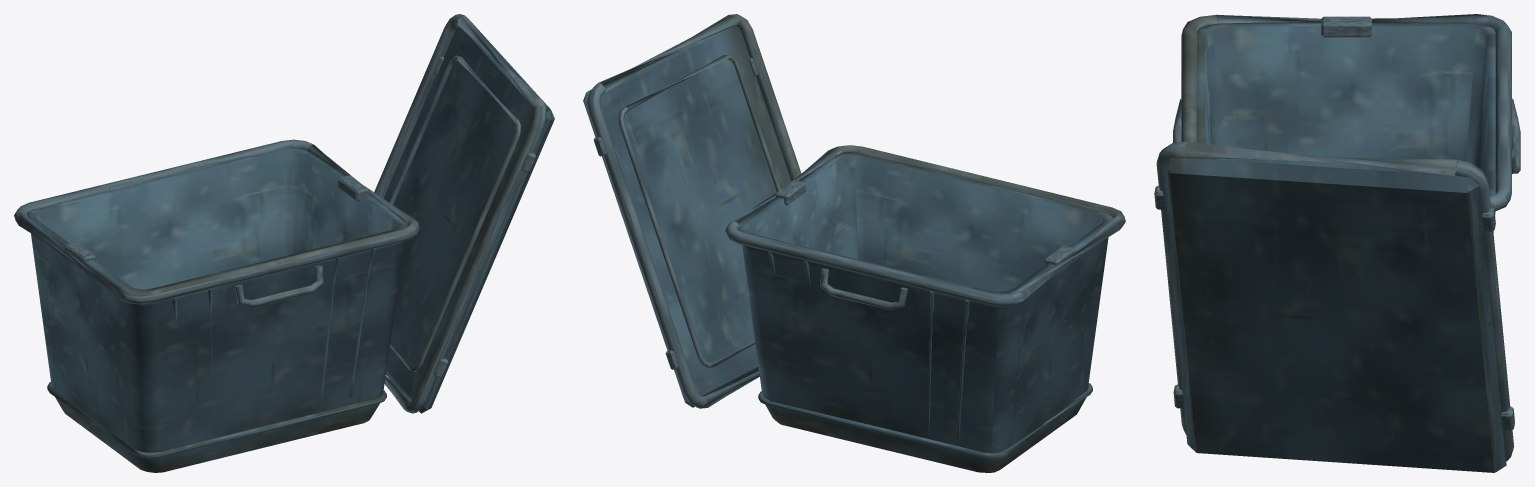
Rendered from nb_tote.glb.
3 renders of one model, left to right at view 1: azimuth 30°, elevation 25°; view 2: azimuth 150°, elevation 25°; view 3: azimuth 270°, elevation 25°, orthographic. The views are drawn at different scales.
Parts seen in each view (by area): view 1: Abandoned_Faded_Blue_Tote_Body, Abandoned_Faded_Blue_Tote_Detached_Lid; view 2: Abandoned_Faded_Blue_Tote_Body, Abandoned_Faded_Blue_Tote_Detached_Lid; view 3: Abandoned_Faded_Blue_Tote_Detached_Lid, Abandoned_Faded_Blue_Tote_Body.
Boxes of the visible parts, x1,y1,x2,y2 form: Abandoned_Faded_Blue_Tote_Body: (14, 139, 419, 472); Abandoned_Faded_Blue_Tote_Detached_Lid: (374, 14, 554, 413); Abandoned_Faded_Blue_Tote_Body: (725, 145, 1125, 472); Abandoned_Faded_Blue_Tote_Detached_Lid: (583, 14, 801, 408); Abandoned_Faded_Blue_Tote_Detached_Lid: (1154, 141, 1514, 472); Abandoned_Faded_Blue_Tote_Body: (1173, 14, 1520, 232).
Size of the model in its own units: 1.13 by 0.7092 by 0.6062.
Materials: 1 (1 with a texture image).
